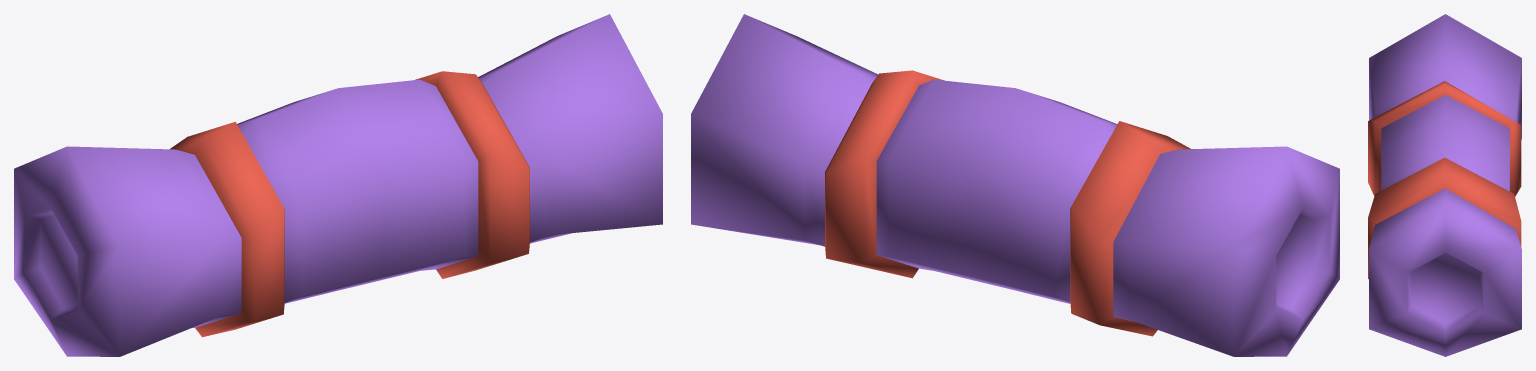
Rendered from BedRoll_1.fbx.
3 renders of one model, left to right at view 1: azimuth 30°, elevation 25°; view 2: azimuth 150°, elevation 25°; view 3: azimuth 270°, elevation 25°, orthographic. The views are drawn at different scales.
Visible parts, largest first — view 1: Cylinder.002; view 2: Cylinder.002; view 3: Cylinder.002.
Part boxes in pixels (x1=…): Cylinder.002: x1=14, y1=14, x2=662, y2=356; Cylinder.002: x1=691, y1=14, x2=1339, y2=356; Cylinder.002: x1=1368, y1=14, x2=1521, y2=356.
Size of the model in its own units: 212 by 78.75 by 67.99.
